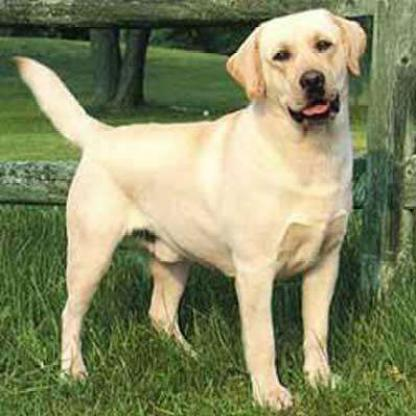Labarador Retriever: (12, 11, 368, 404)
